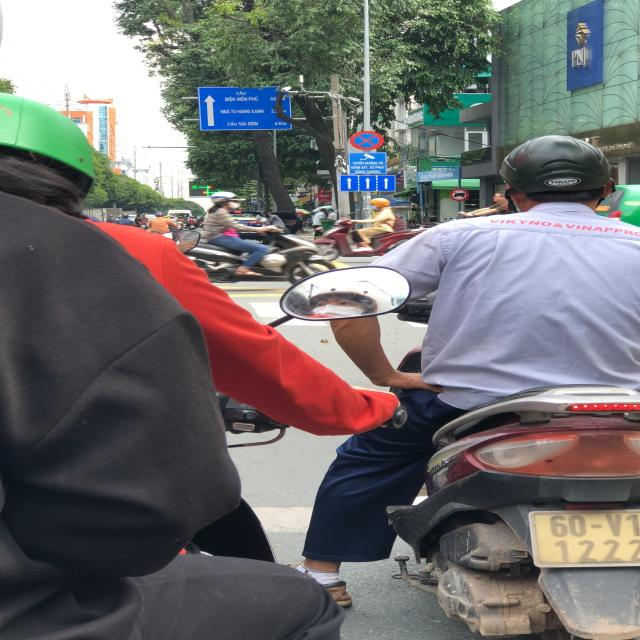Bien bao cam dung xe va do xe: (346, 128, 385, 150)
